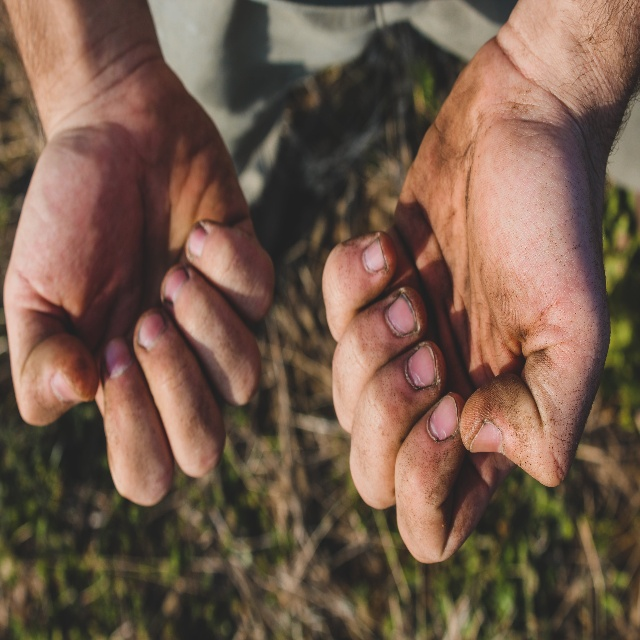Sin_guantes: (322, 41, 613, 564), (2, 56, 277, 510)
